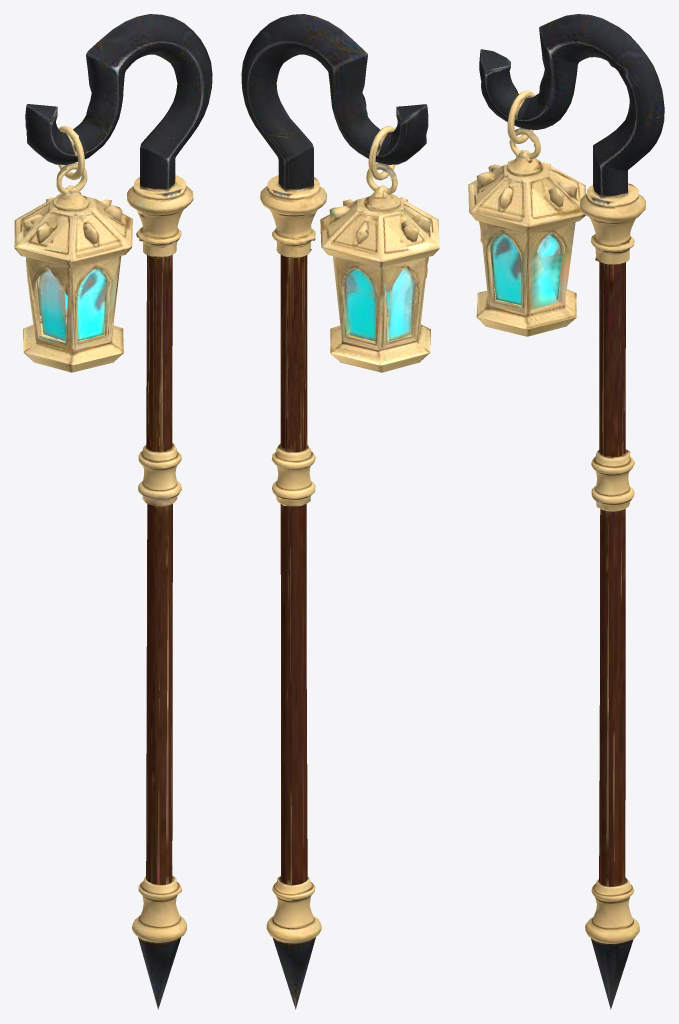
The model's file is staff_ghost.glb.
The picture shows the model from 3 angles, left to right: view 1: azimuth 30°, elevation 25°; view 2: azimuth 150°, elevation 25°; view 3: azimuth 330°, elevation 25°; orthographic projection.
Visible parts, largest first — view 1: staff_ghost; view 2: staff_ghost; view 3: staff_ghost.
Part boxes in pixels (x1,y1,x2,y2): staff_ghost: (14, 14, 212, 1009); staff_ghost: (241, 14, 439, 1009); staff_ghost: (468, 14, 664, 1009).
Bounding box in the file's own units: 0.2076 × 1 × 0.1041.
1 material, 1 textured.
